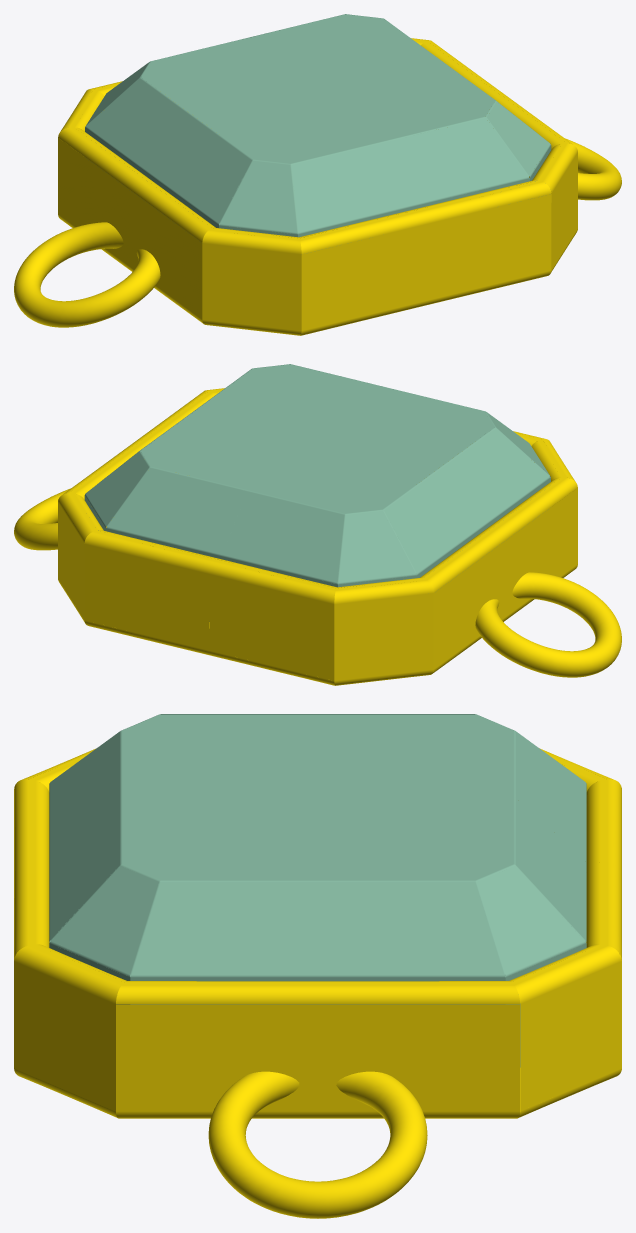
File: bracelet-asscher.glb
3 views of the same model, one above another, from view 1: azimuth 30°, elevation 25°; view 2: azimuth 150°, elevation 25°; view 3: azimuth 270°, elevation 25° (orthographic). The views are drawn at different scales.
Size of the model in its own units: 0.0229 by 0.00608 by 0.0147.
